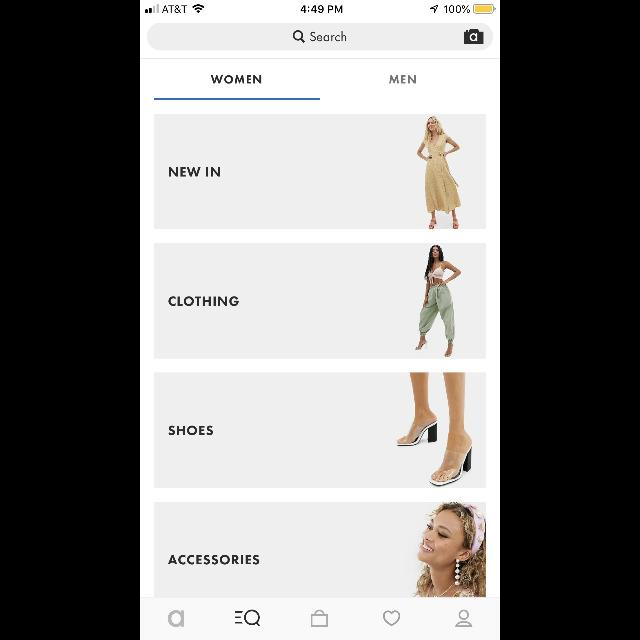icon: (236, 610, 260, 626), (384, 610, 401, 626), (312, 610, 328, 626), (456, 610, 472, 626), (293, 31, 305, 44)
image: (396, 373, 472, 487), (412, 502, 486, 598), (416, 115, 462, 228), (415, 245, 461, 357), (464, 30, 484, 44)
input: (147, 23, 493, 51)
text: (168, 555, 260, 565), (169, 296, 239, 306), (169, 426, 213, 436), (168, 168, 220, 176), (210, 76, 262, 84), (310, 31, 346, 41), (168, 610, 185, 628), (390, 76, 416, 84)
uppertaskbar: (140, 0, 500, 14)
